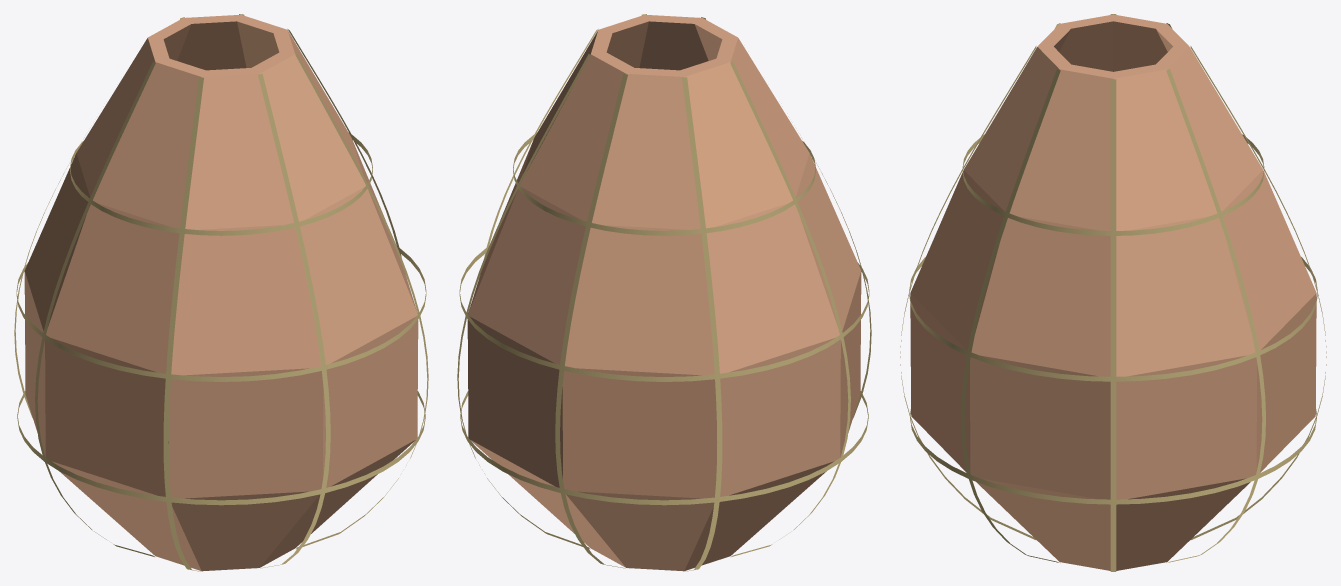
File: vase.raw.glb
3 views of the same model, side by side, from view 1: azimuth 30°, elevation 25°; view 2: azimuth 150°, elevation 25°; view 3: azimuth 270°, elevation 25° (orthographic).
Parts seen in each view (by area): view 1: shard_18, shard_10, shard_19, shard_11, shard_26, shard_17, shard_27, shard_09, shard_25, shard_02, shard_20, shard_03 (+23 smaller); view 2: shard_21, shard_13, shard_20, shard_12, shard_29, shard_22, shard_28, shard_14, shard_30, shard_05, shard_19, shard_04 (+23 smaller); view 3: shard_16, shard_23, shard_08, shard_15, shard_24, shard_31, shard_17, shard_22, shard_09, shard_14, shard_25, shard_30 (+19 smaller).
Boxes of the visible parts, box(x1,y1,x2,y2) form: shard_18: box(171, 225, 320, 375); shard_10: box(169, 368, 323, 498); shard_19: box(46, 203, 179, 373); shard_11: box(45, 338, 168, 496); shard_26: box(185, 68, 293, 229); shard_17: box(300, 187, 417, 364); shard_27: box(93, 58, 205, 228); shard_09: box(323, 316, 418, 487); shard_25: box(252, 52, 365, 221); shard_02: box(171, 491, 319, 571); shard_20: box(24, 153, 90, 330); shard_03: box(52, 461, 201, 570); shard_21: box(565, 225, 714, 375); shard_13: box(562, 368, 716, 498); shard_20: box(706, 203, 839, 373); shard_12: box(717, 338, 840, 496); shard_29: box(592, 68, 700, 229); shard_22: box(468, 187, 585, 364); shard_28: box(680, 58, 792, 228); shard_14: box(467, 316, 562, 487); shard_30: box(520, 52, 633, 221); shard_05: box(566, 491, 714, 571); shard_19: box(795, 153, 861, 330); shard_04: box(684, 461, 833, 570); shard_16: box(971, 216, 1110, 376); shard_23: box(1116, 216, 1255, 376); shard_08: box(970, 355, 1110, 499); shard_15: box(1116, 355, 1256, 499); shard_24: box(1009, 64, 1113, 230); shard_31: box(1113, 64, 1217, 230); shard_17: box(910, 170, 1003, 350); shard_22: box(1223, 170, 1316, 350); shard_09: box(910, 293, 970, 472); shard_14: box(1256, 293, 1316, 472); shard_25: box(964, 46, 1070, 211); shard_30: box(1156, 46, 1262, 211).
Bounding box in the file's own units: 1.57 × 2 × 1.57.
